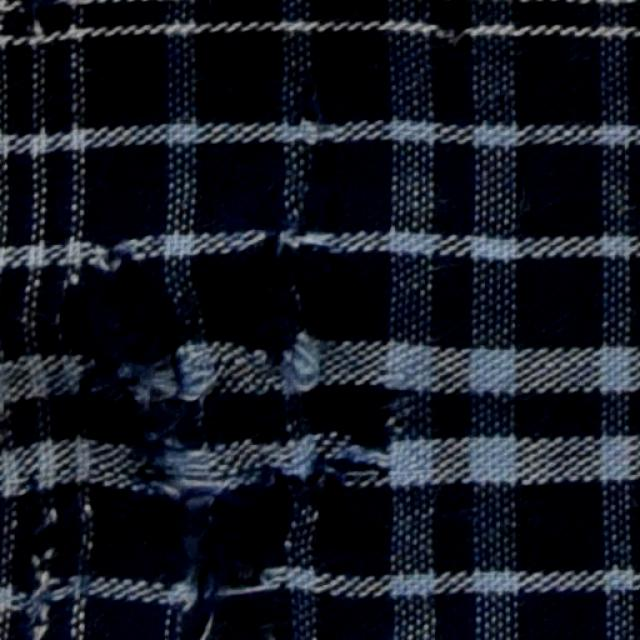Snag: (59, 243, 397, 638), (0, 481, 101, 635), (266, 166, 343, 330)
